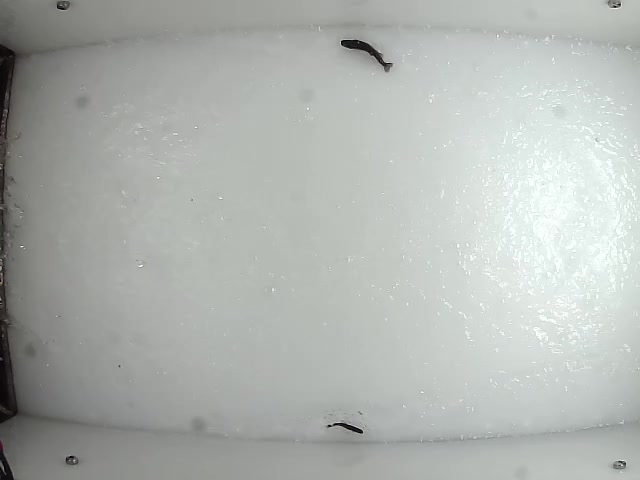fish: (335, 39, 395, 74), (324, 419, 367, 436)
